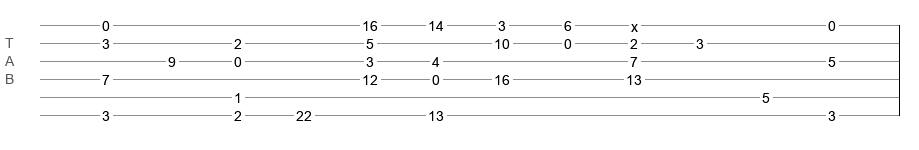0: (102, 18, 110, 28), (234, 54, 242, 64), (432, 72, 440, 82), (564, 36, 572, 46), (828, 18, 836, 28)
1: (234, 90, 242, 100)
10: (494, 36, 510, 46)
12: (362, 72, 378, 82)
13: (428, 108, 444, 118), (626, 72, 642, 82)
14: (428, 18, 444, 28)
16: (362, 18, 378, 28), (494, 72, 510, 82)
2: (234, 36, 242, 46), (234, 108, 242, 118), (630, 36, 638, 46)
22: (296, 108, 312, 118)
3: (102, 36, 110, 46), (102, 108, 110, 118), (366, 54, 374, 64), (498, 18, 506, 28), (696, 36, 704, 46), (828, 108, 836, 118)
4: (432, 54, 440, 64)
5: (366, 36, 374, 46), (762, 90, 770, 100), (828, 54, 836, 64)
6: (564, 18, 572, 28)
7: (102, 72, 110, 82), (630, 54, 638, 64)
9: (168, 54, 176, 64)
x: (631, 19, 638, 27)
